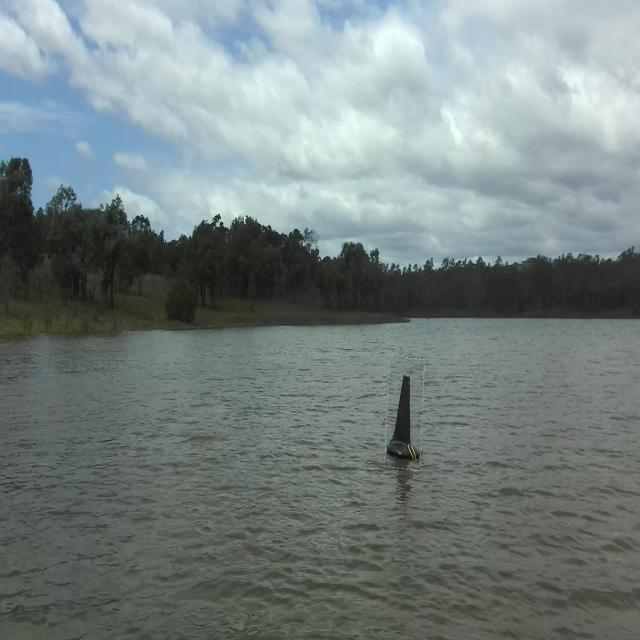Black_Buoy: (383, 354, 423, 464)
